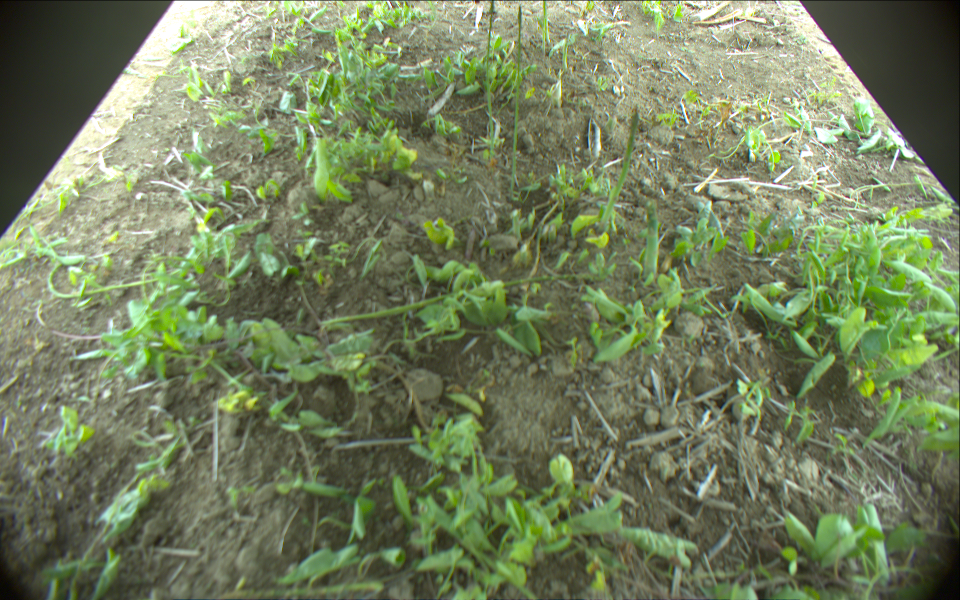aspa: (320, 274, 603, 330), (597, 106, 641, 232), (510, 5, 525, 192), (486, 1, 497, 155), (643, 208, 658, 282), (563, 29, 570, 70)
